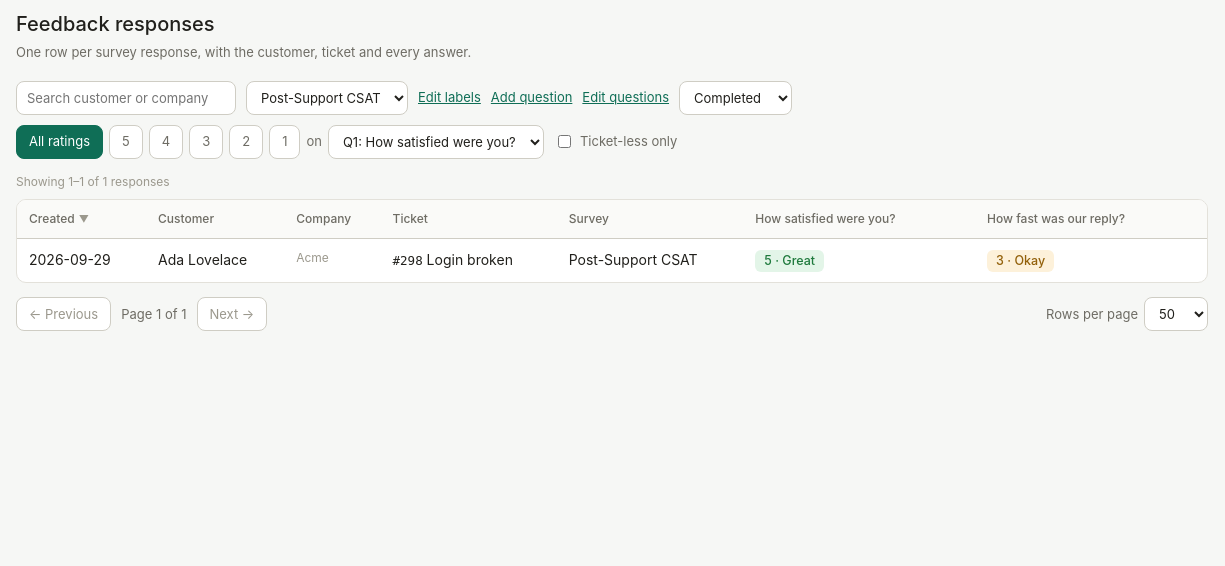
it: FeedbackTablePage › custom rating labels (Req 1) › saves renamed labels and reloads the table with them
The image size is (1225, 566).
Click the button "Edit labels" at (449, 98), box 418,88 -> 481,107
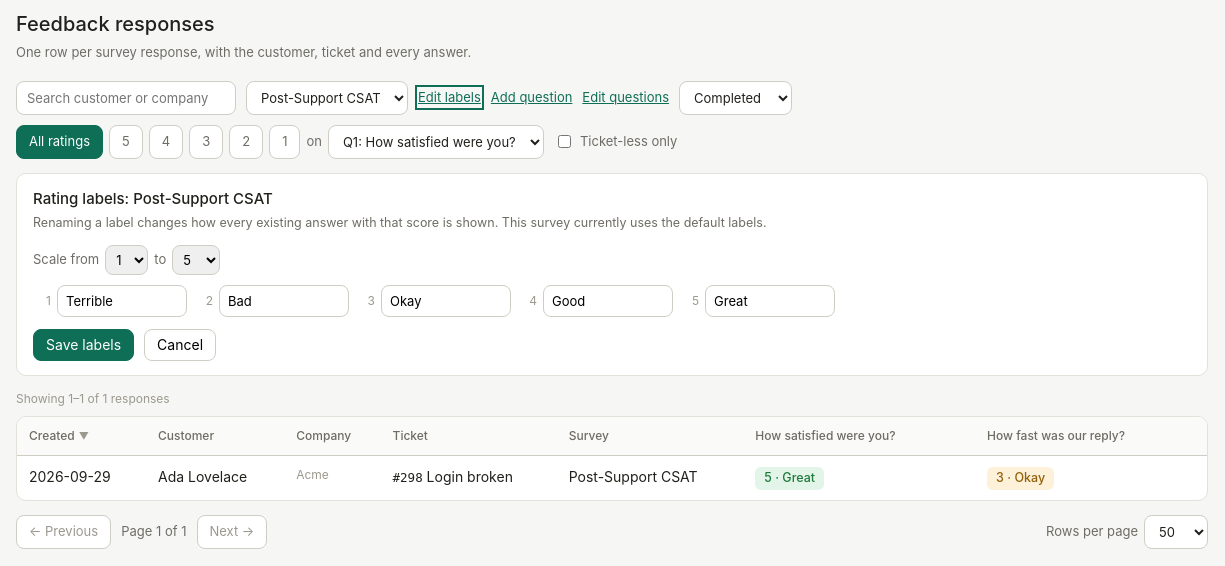
Expected: the field named "Label for score 5" holds "Great"
Replace the text in the field named "Label for score 5" with "Awesome" at (770, 301), box 705,285 -> 835,317
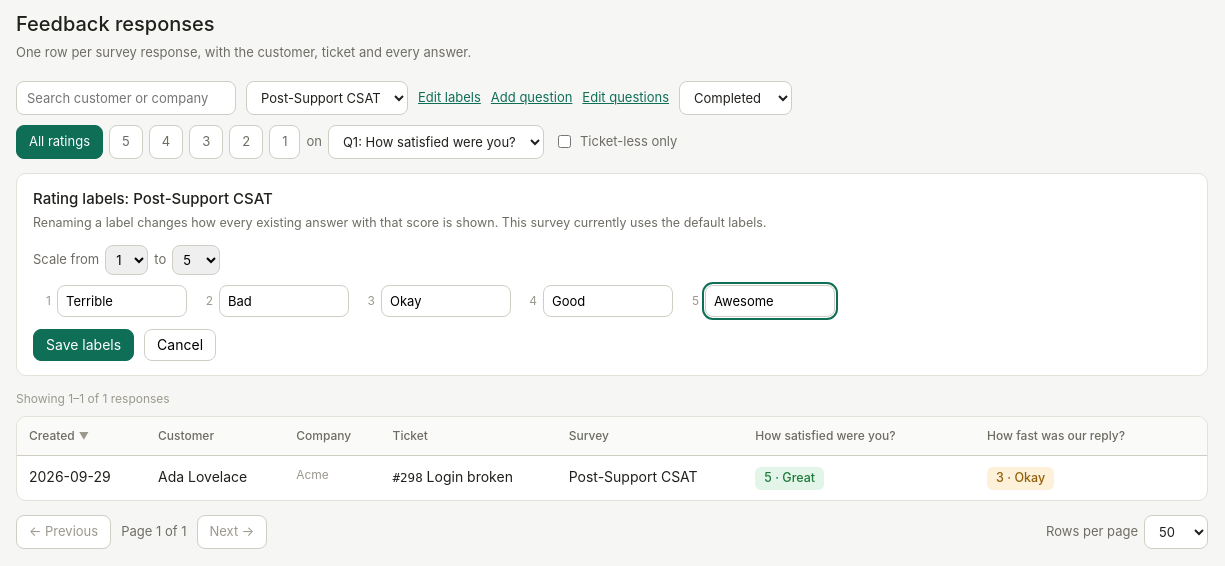
Click the button "Save labels" at (84, 345), box 33,329 -> 134,361
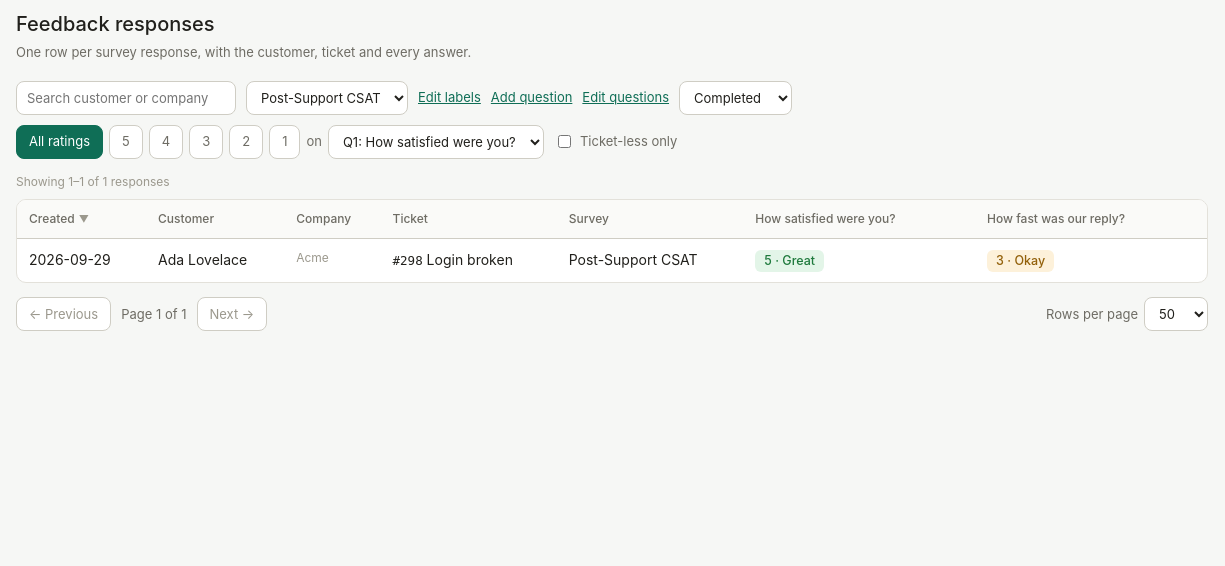
Expected: the form is gone
